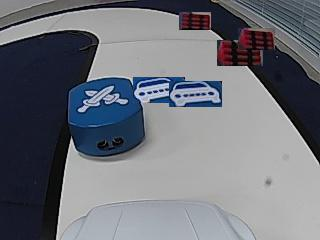spy: (77, 85, 127, 112)
